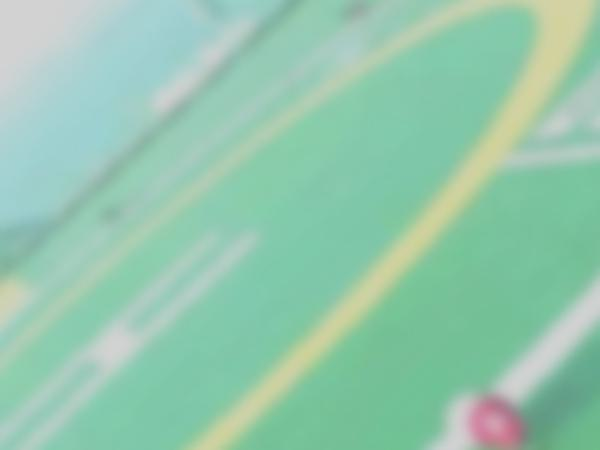Apron: (1, 1, 595, 447)
